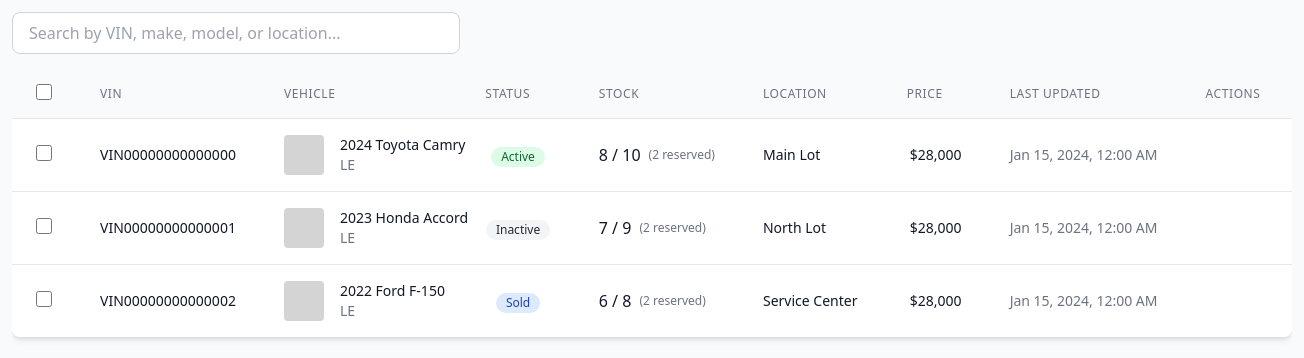
it: InventoryTable Component › Bulk Selection › should select all items
Click the checkbox named "Select all items" at (44,92), box [36, 84, 52, 100]
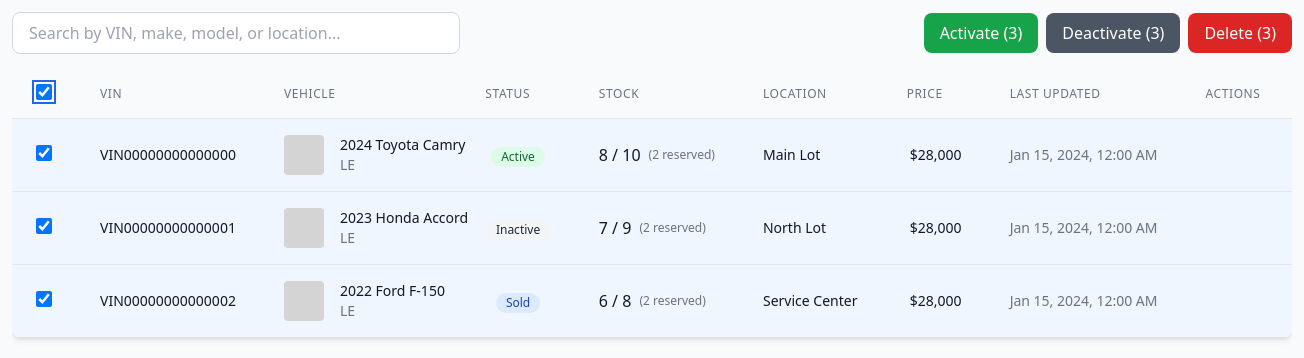
Expected: the checkbox named "Select all items" is checked, [36, 84, 52, 100]
Expected: the checkbox named "Select VIN00000000000000" is checked, [36, 145, 52, 161]
Expected: the checkbox named "Select VIN00000000000001" is checked, [36, 218, 52, 234]
